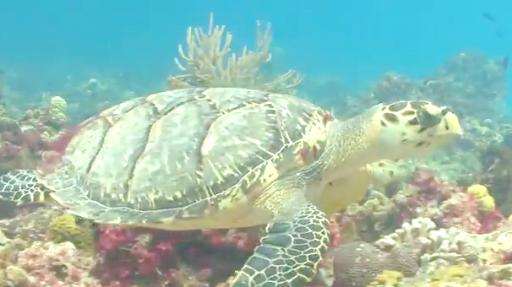Fish: (0, 88, 462, 286)
